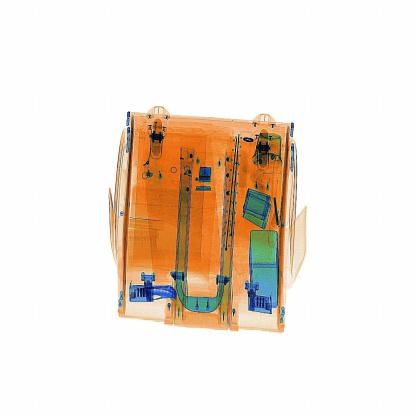knife: (130, 280, 184, 310)
